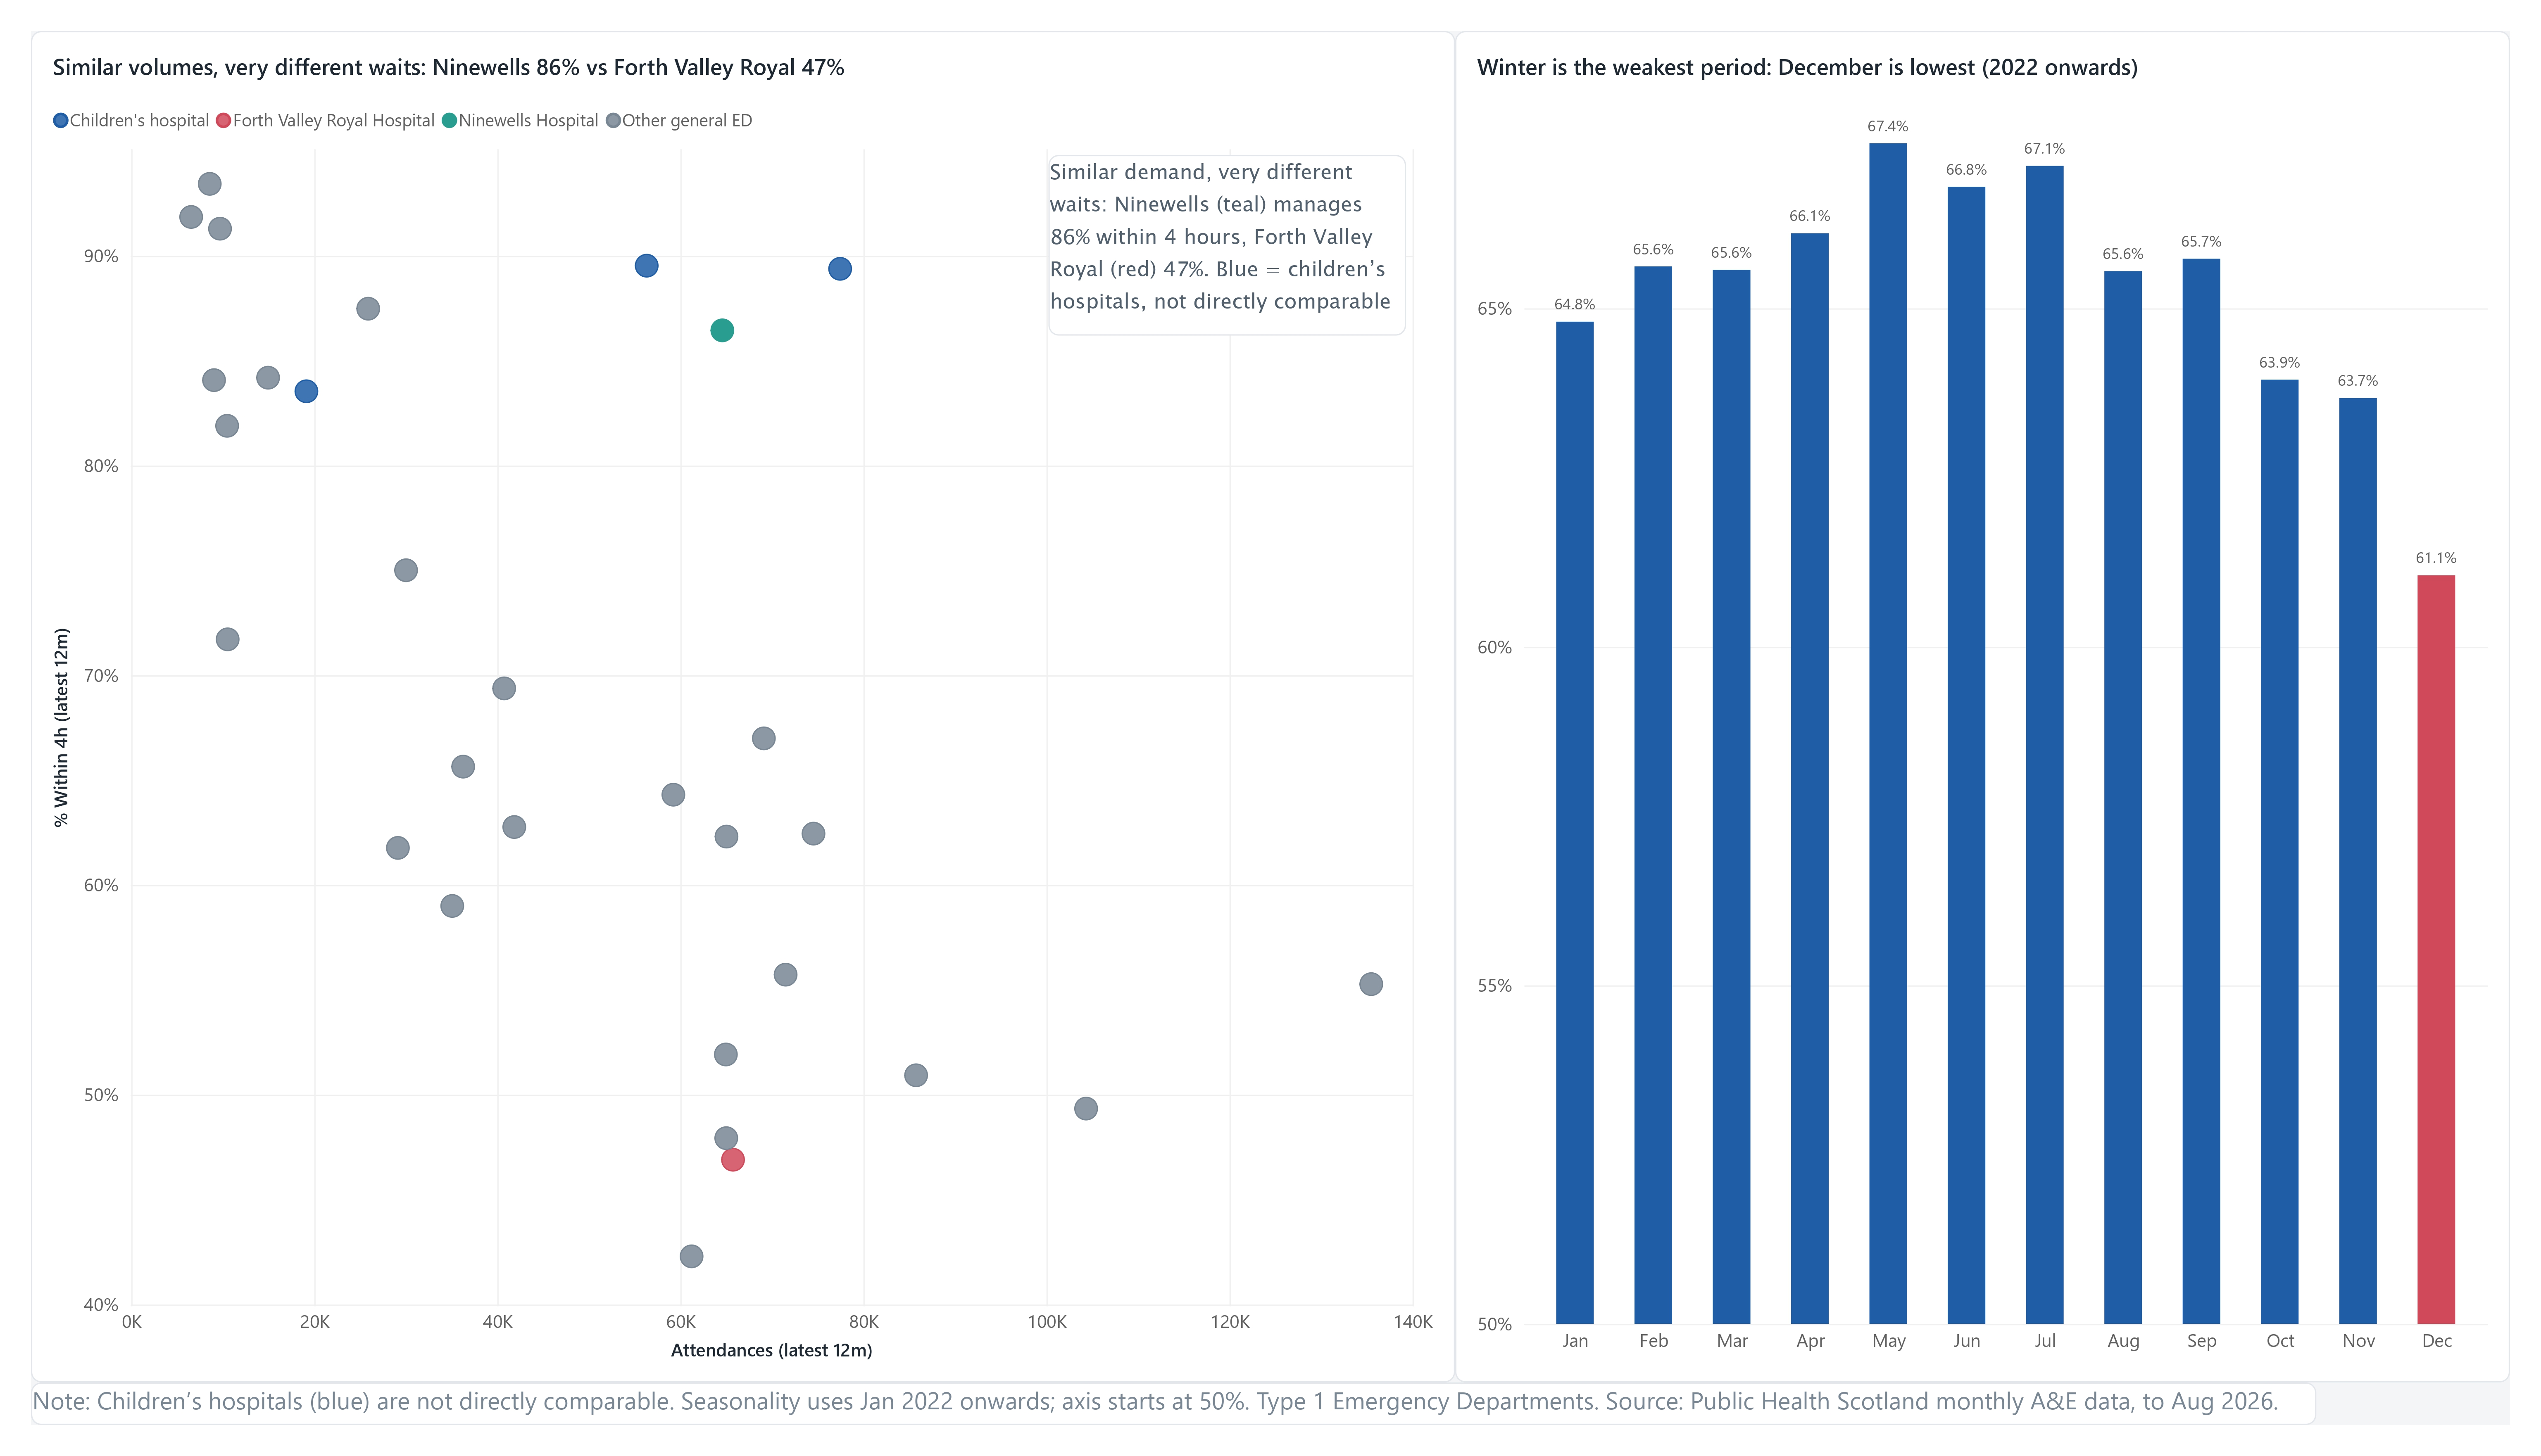

Layout of this report page (visuals, bound fields, positions):
{"tool":"powerbi","page":{"name":"Demand vs flow","canvas":[1920,1080],"ordinal":2},"visuals":[{"type":"scatterChart","title":"Similar volumes, very different waits: Ninewells 86% vs Forth Valley Royal 47%","fields":{"Category":["ae_clean.HospitalName"],"Series":["ae_clean.Site group"],"X":["ae_clean.Attendances (latest 12m)"],"Y":["ae_clean.% Within 4h (latest 12m)"]},"box":[0,0,1102.7,1046.8],"z":0},{"type":"clusteredColumnChart","title":"Winter is the weakest period: December is lowest (2022 onwards)","fields":{"Category":["ae_clean.Month name"],"Y":["ae_clean.% Within 4h"]},"box":[1102.7,0,817.3,1046.8],"z":1000},{"type":"textbox","box":[787.9,96.2,277.6,139.6],"z":2001},{"type":"textbox","box":[0,1046.7,1770.1,33.8],"z":2002}]}

Visuals, with their boxes on the page's 1920x1080 design canvas (x1, y1, x2, y2). These are canvas units, not pixel positions in the 2541x1456 screenshot, which may show the page scaled, cropped or inside an application window:
"Similar volumes, very different waits: Ninewells 86% vs Forth Valley Royal 47%" scatterChart: [x1=0, y1=0, x2=1103, y2=1047]
"Winter is the weakest period: December is lowest (2022 onwards)" clusteredColumnChart: [x1=1103, y1=0, x2=1920, y2=1047]
textbox: [x1=788, y1=96, x2=1066, y2=236]
textbox: [x1=0, y1=1047, x2=1770, y2=1080]
